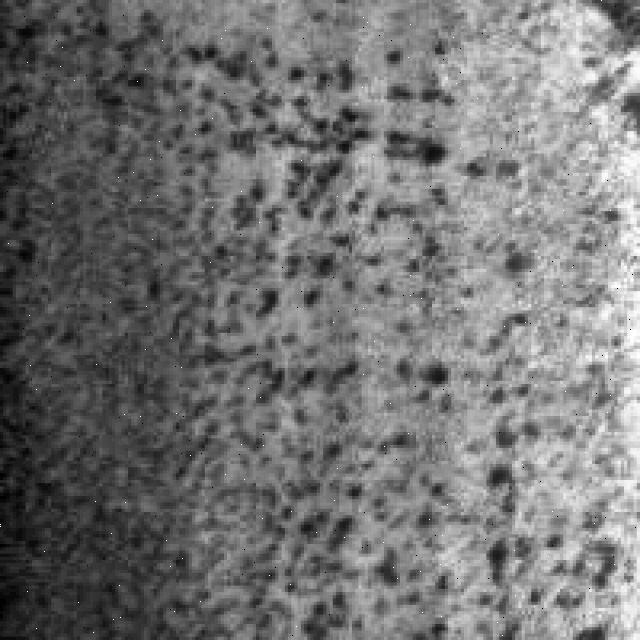Rolled_in_Scale: (124, 35, 500, 621)
